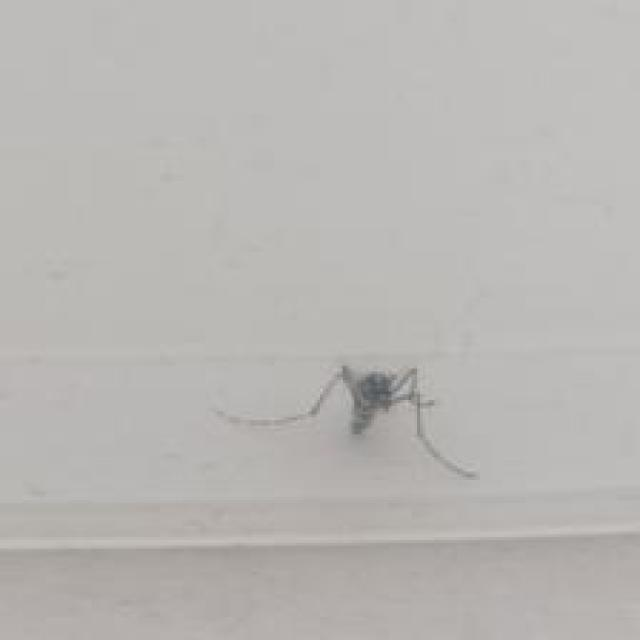Aedes albopictus: (211, 360, 480, 480)
